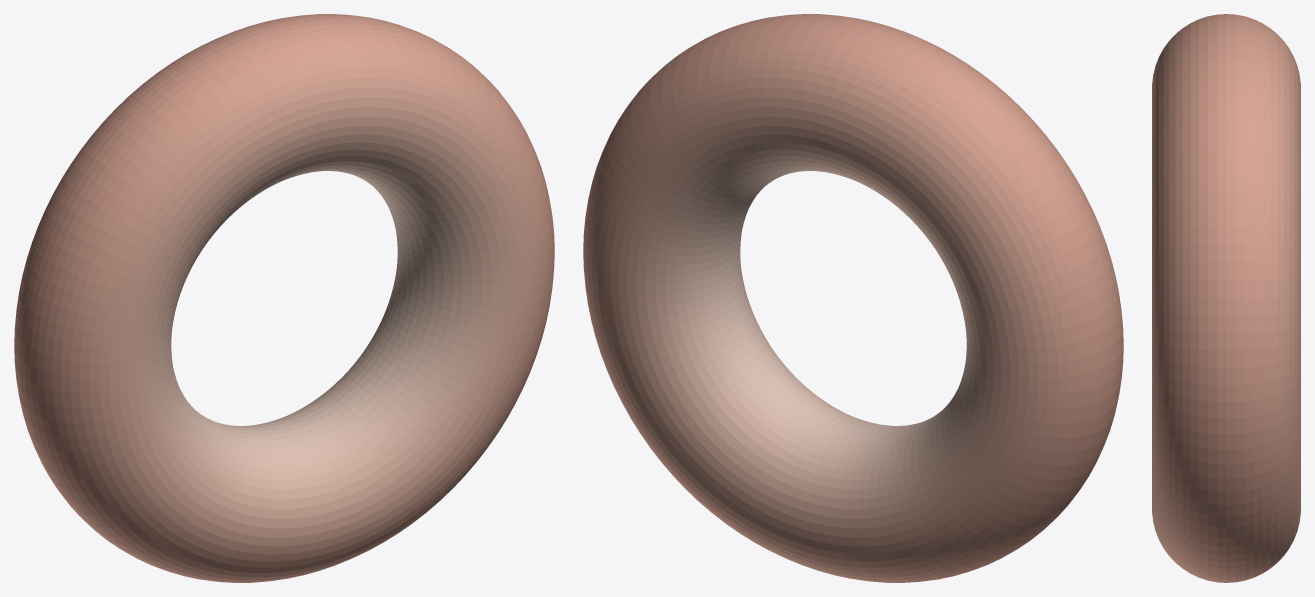
The picture shows the model from 3 angles, left to right: view 1: azimuth 30°, elevation 25°; view 2: azimuth 150°, elevation 25°; view 3: azimuth 270°, elevation 25°; orthographic projection. The views are drawn at different scales.
Visible parts, largest first — view 1: world; view 2: world; view 3: world.
Part boxes in pixels (x1,y1,x2,y2): world: (14,14,554,582); world: (583,14,1123,582); world: (1152,14,1300,582).
Bounding box in the file's own units: 28 × 28 × 7.32.
